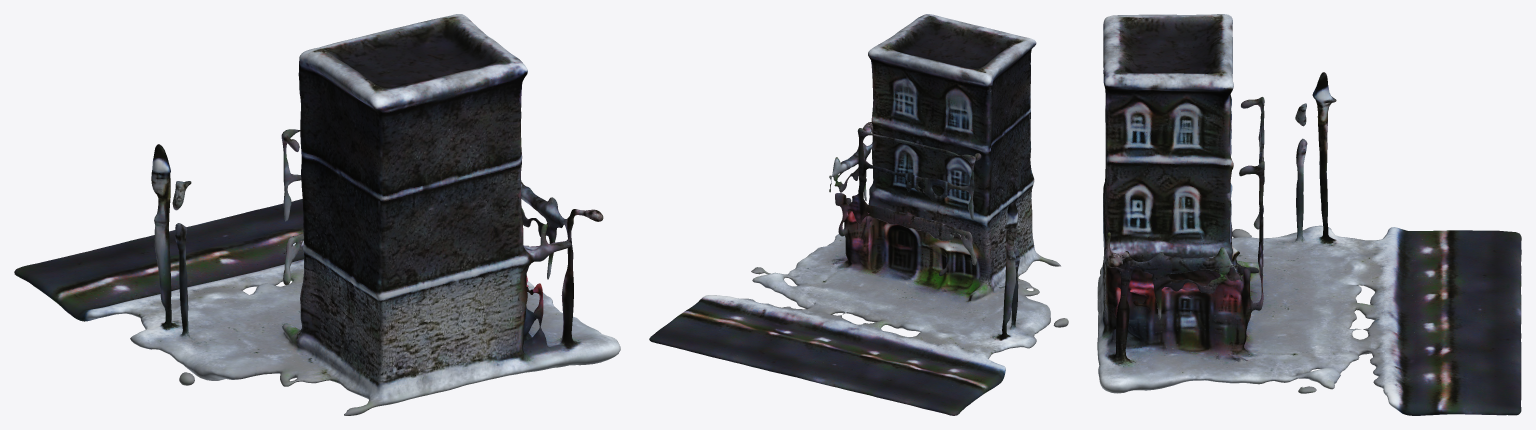
File: building1.glb
3 renders of one model, left to right at view 1: azimuth 30°, elevation 25°; view 2: azimuth 150°, elevation 25°; view 3: azimuth 270°, elevation 25°, orthographic. The views are drawn at different scales.
Parts seen in each view (by area): view 1: model; view 2: model; view 3: model.
Boxes of the visible parts, left/top/right/bottom form: model: left=14, top=14, right=620, bottom=415; model: left=649, top=14, right=1068, bottom=415; model: left=1097, top=14, right=1521, bottom=415.
Size of the model in its own units: 1.21 by 0.8726 by 1.2.
1 material, 1 textured.
